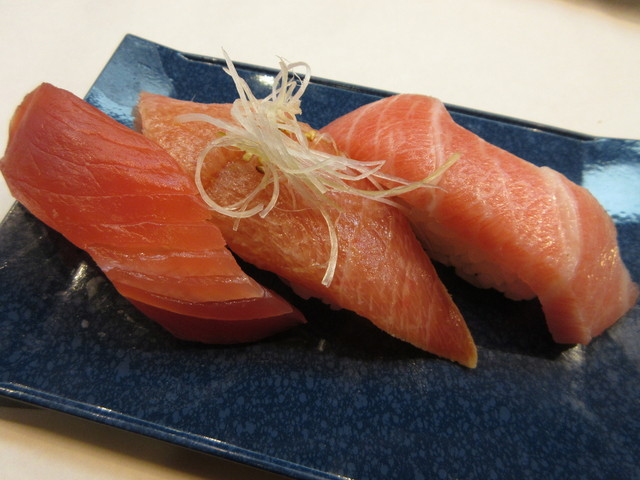medium_fatty_tuna: (331, 95, 640, 342)
